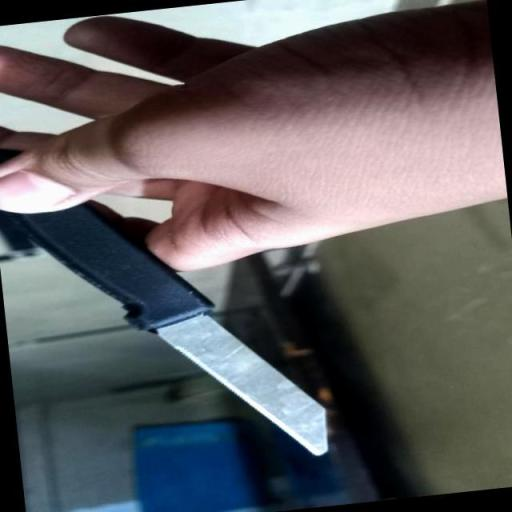knife: (0, 118, 338, 487)
